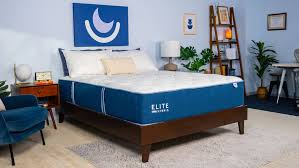bed-matress: (58, 71, 246, 128)
